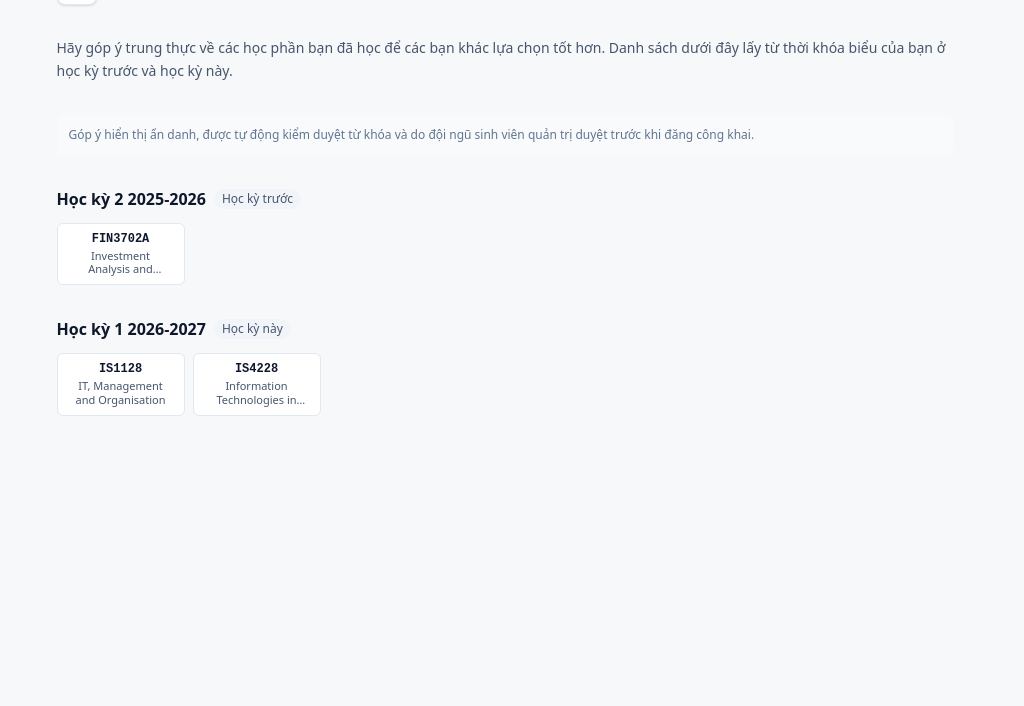
CourseReviewsPage › nội dung bị từ chối (422) thì báo lỗi và giữ form để sửa
Click the button with aria-label "Góp ý": (256, 384) [192,353,320,416]
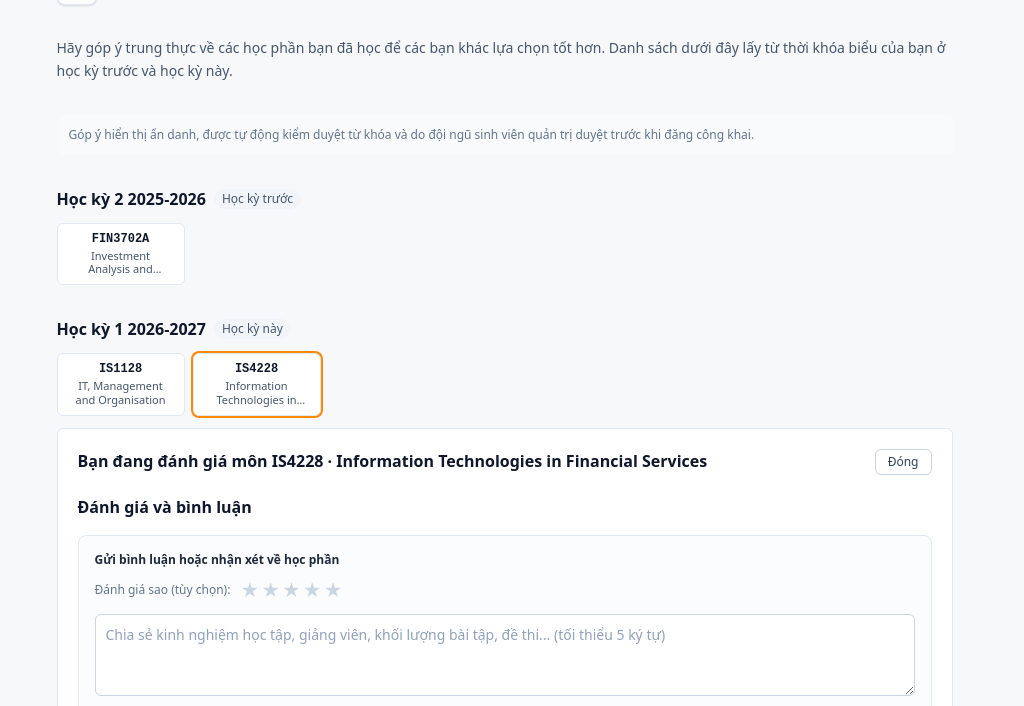
Click the button named "5 sao": (333, 590) [324,576,342,604]
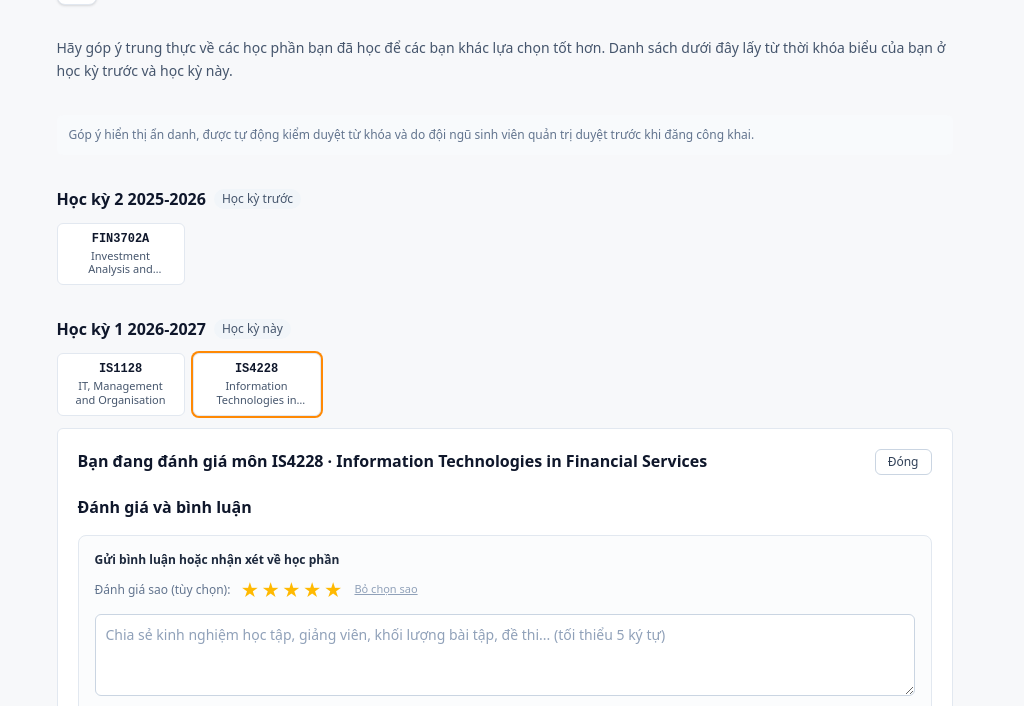
Replace the text in the text box named "Nội dung bình luận" with "Giảng viên dạy rõ ràng, bài tập vừa sức.": (504, 654) [94,614,914,696]
(page scrolled)
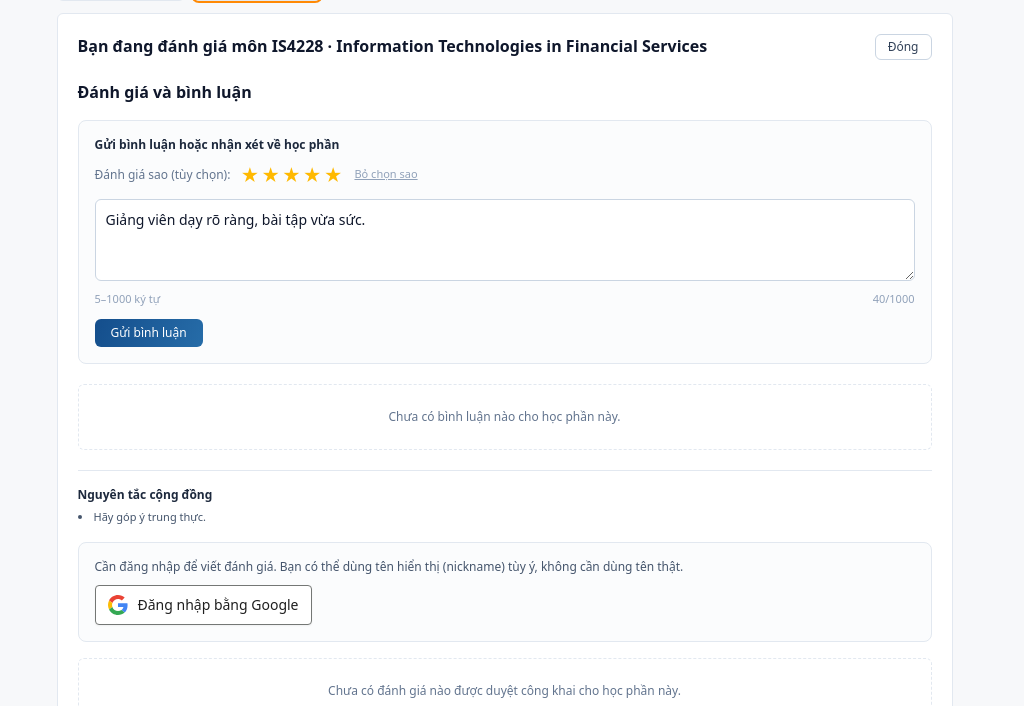
Click the button "Gửi bình luận": (149, 333) [94,319,203,347]
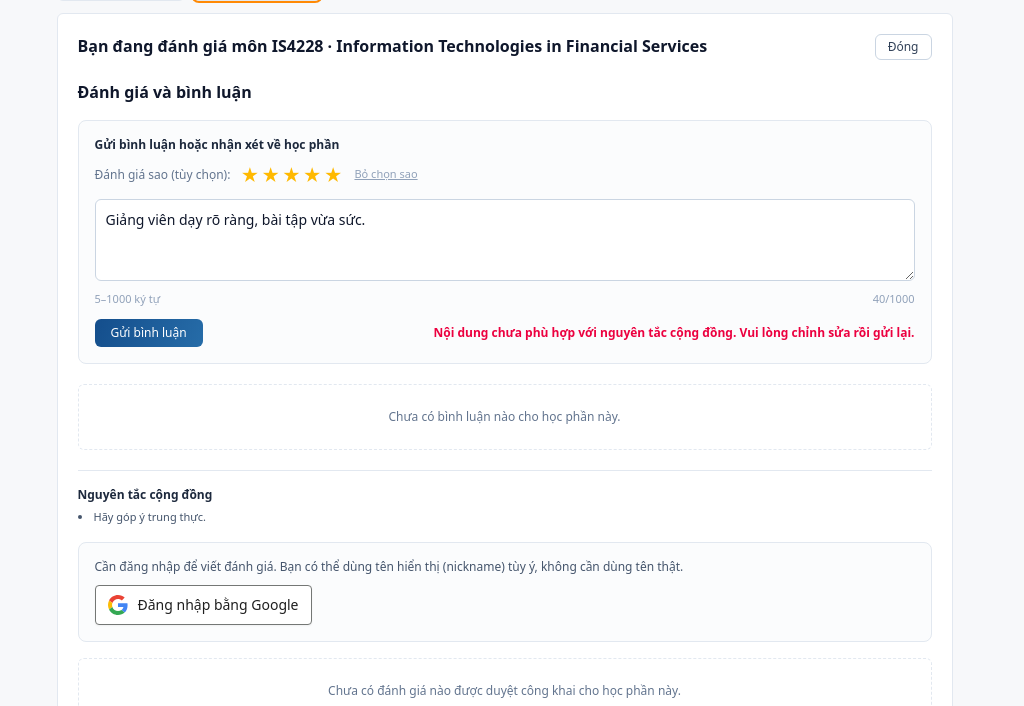
Result: the text "Nội dung chưa phù hợp với nguyên tắc cộng đồng. Vui lòng chỉnh sửa rồi gửi lại." is shown at [434,325,914,341]
